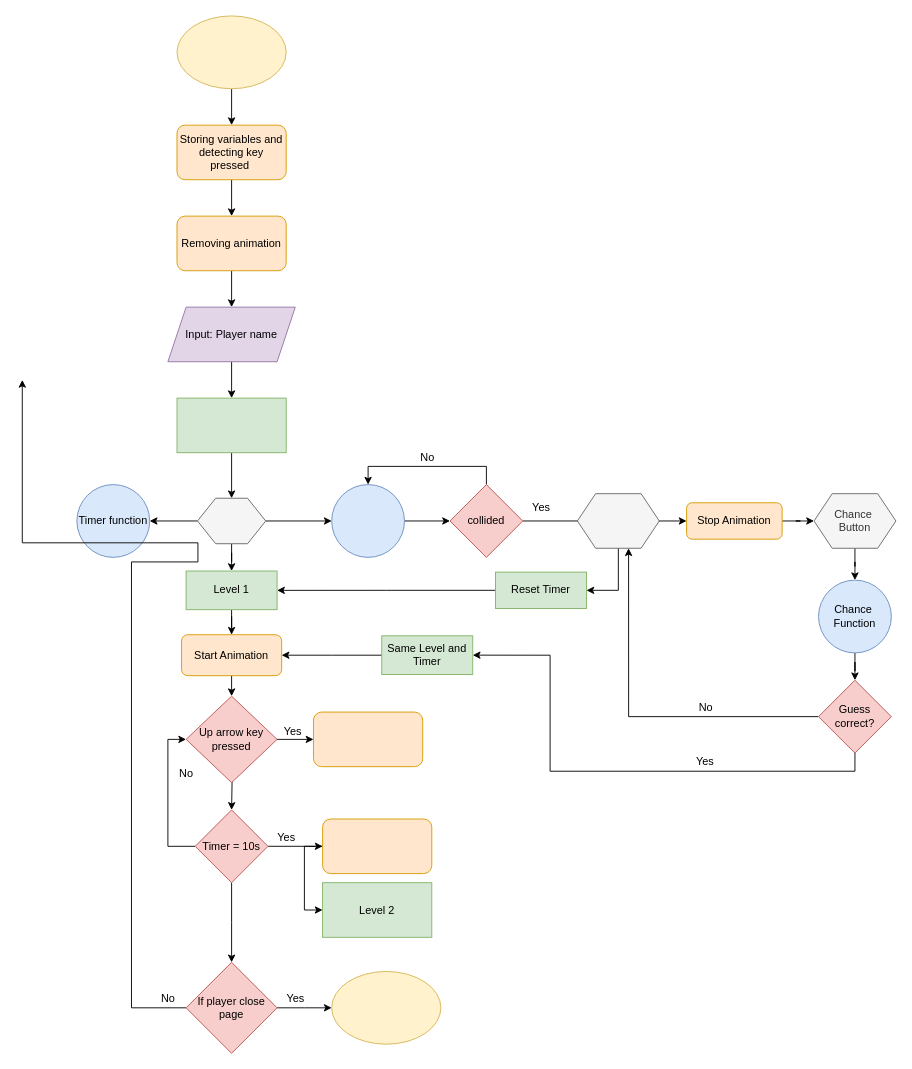
This 912x1069 diagram has some shape labels left out. Each missing label, with the box of its shape:
Add double jump animation: (322, 818, 432, 874)
Add Jump Animation: (313, 711, 423, 767)
Collision function: (331, 484, 404, 557)
Display Player name and timer.: (176, 397, 286, 453)
END: (331, 971, 441, 1044)
Play again Button: (576, 493, 659, 548)
START: (176, 15, 286, 89)
Start Button: (197, 497, 266, 544)
